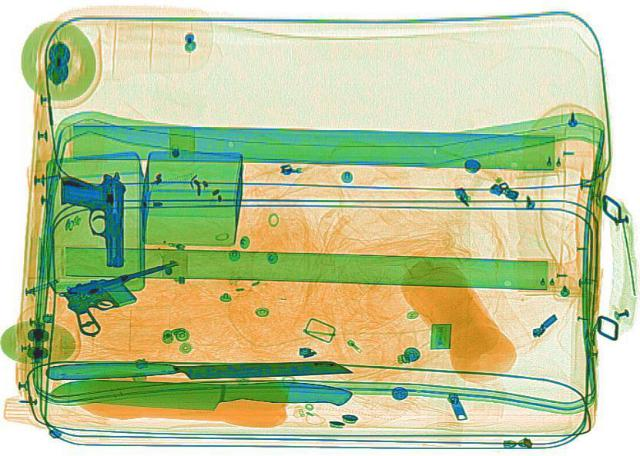Gun: (51, 255, 207, 337), (58, 170, 124, 266)
Knife: (45, 375, 352, 407), (41, 352, 357, 381)
